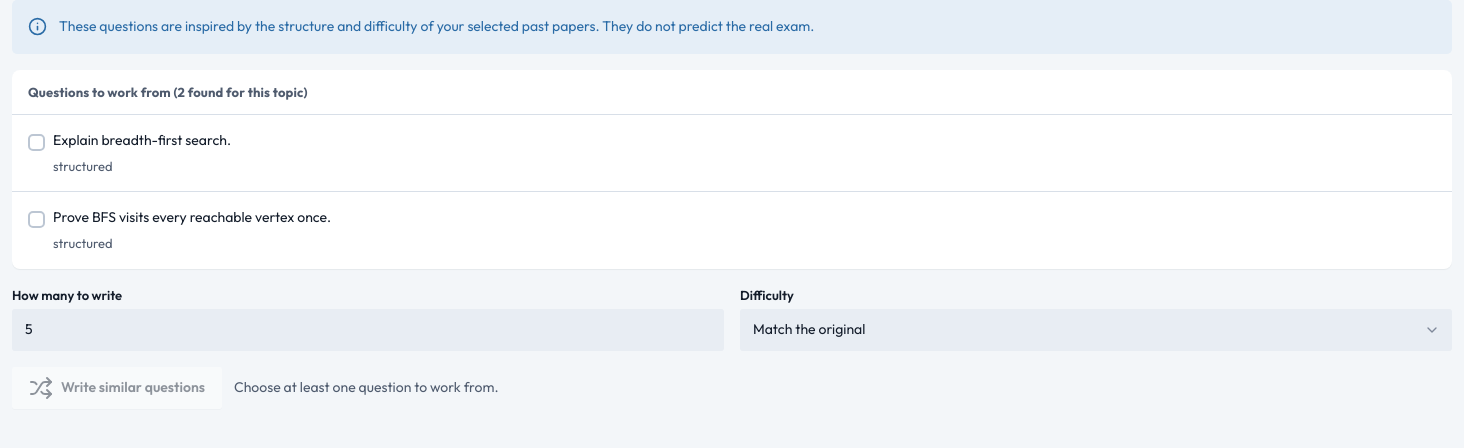
Scenario: SimilarQuestionBuilder › refuses a count above the bound the backend enforces
The width and height of the screenshot is (1464, 448).
Click the checkbox labelled "Prove BFS visits every reachable vertex once. structured": (36, 220) [28,211,45,228]
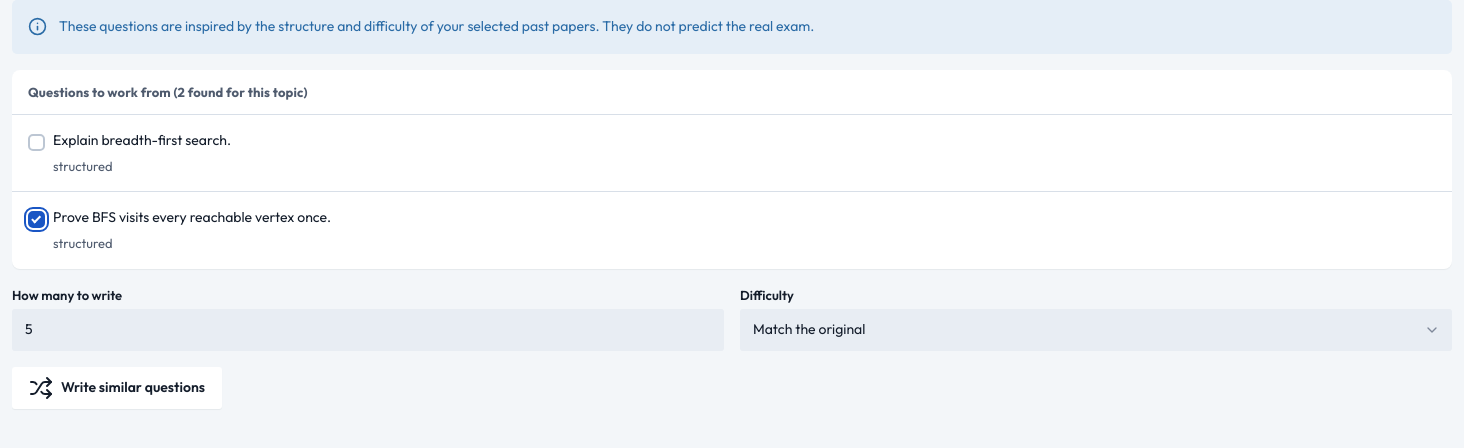
Replace the text in the number field labelled "How many to write" with "21": (368, 330) [12,309,724,351]
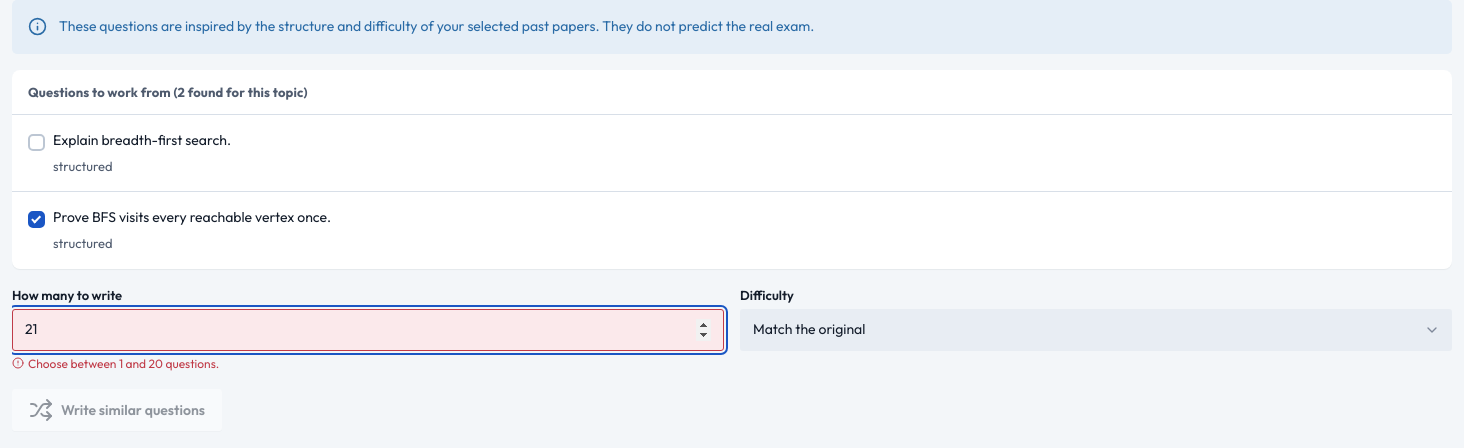
expect the button "Write similar questions" is disabled: met, box [12,389,222,431]
expect the text "Choose between 1 and 20 questions." is shown: met, box [12,356,219,371]
